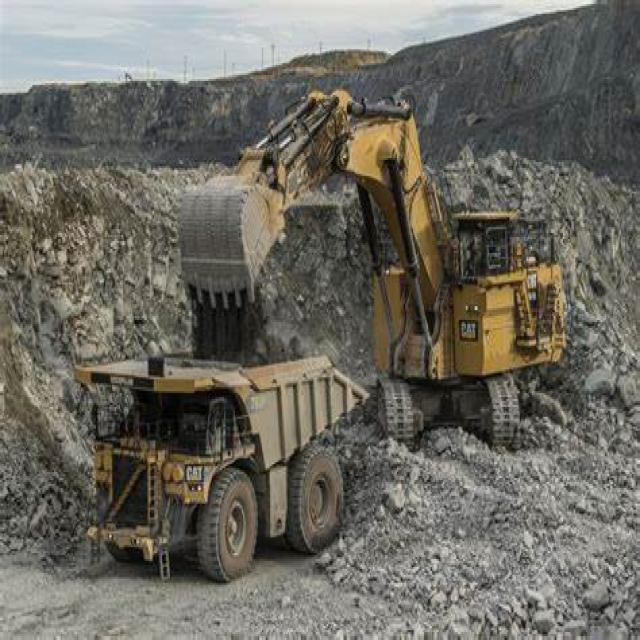dump_truck: (66, 340, 413, 569)
excavator: (172, 75, 572, 445)
